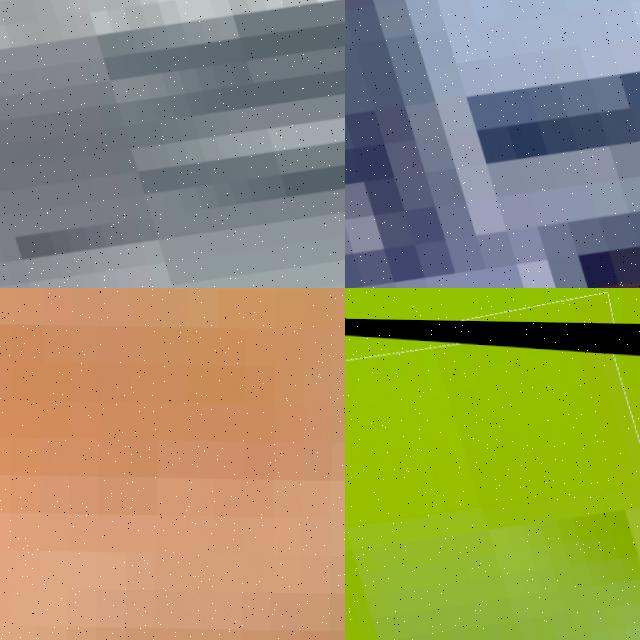drone: (0, 0, 345, 288), (345, 312, 640, 640), (345, 0, 640, 288)
